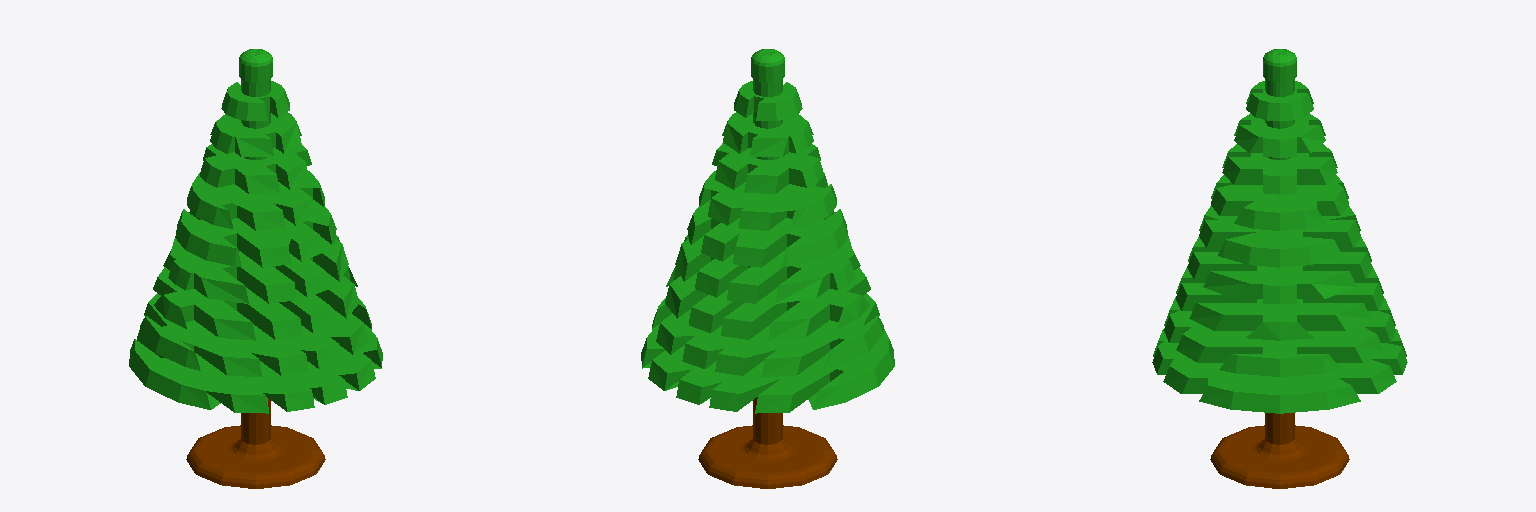
The model's file is legotree.obj.
3 views of the same model, side by side, from view 1: azimuth 30°, elevation 25°; view 2: azimuth 150°, elevation 25°; view 3: azimuth 270°, elevation 25° (orthographic).
Parts seen in each view (by area): view 1: Mesh2, Mesh3, Mesh7, Mesh5, Mesh1, Mesh4; view 2: Mesh2, Mesh3, Mesh7, Mesh5, Mesh1, Mesh4; view 3: Mesh2, Mesh3, Mesh7, Mesh5, Mesh1, Mesh4.
Part boxes in pixels (x1,y1,x2,y2): Mesh2: (153, 200, 358, 340); Mesh3: (200, 49, 311, 193); Mesh7: (129, 330, 382, 413); Mesh5: (140, 293, 371, 376); Mesh1: (186, 398, 325, 488); Mesh4: (187, 171, 324, 230); Mesh2: (665, 200, 870, 340); Mesh3: (712, 49, 823, 193); Mesh7: (641, 329, 894, 413); Mesh5: (652, 293, 883, 376); Mesh1: (698, 397, 837, 488); Mesh4: (699, 171, 836, 230); Mesh2: (1176, 206, 1383, 340); Mesh3: (1222, 49, 1337, 194); Mesh7: (1152, 328, 1407, 413); Mesh5: (1164, 297, 1395, 376); Mesh1: (1210, 413, 1349, 488); Mesh4: (1211, 175, 1348, 230).
Size of the model in its own units: 3.38 by 5.95 by 3.38.